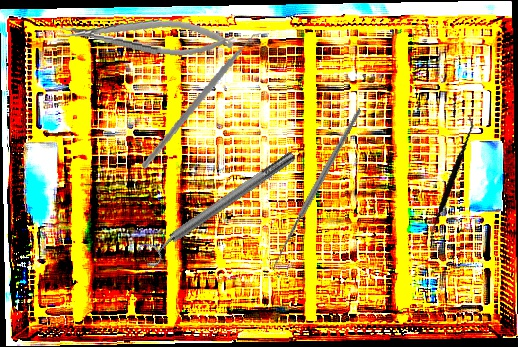Chopper: (141, 17, 271, 184)
Fixation Ring: (134, 144, 303, 271)
Hook Surgical: (223, 106, 414, 279)
Needle Holder: (57, 7, 237, 64)
Spatula Surgical: (405, 115, 497, 243)
